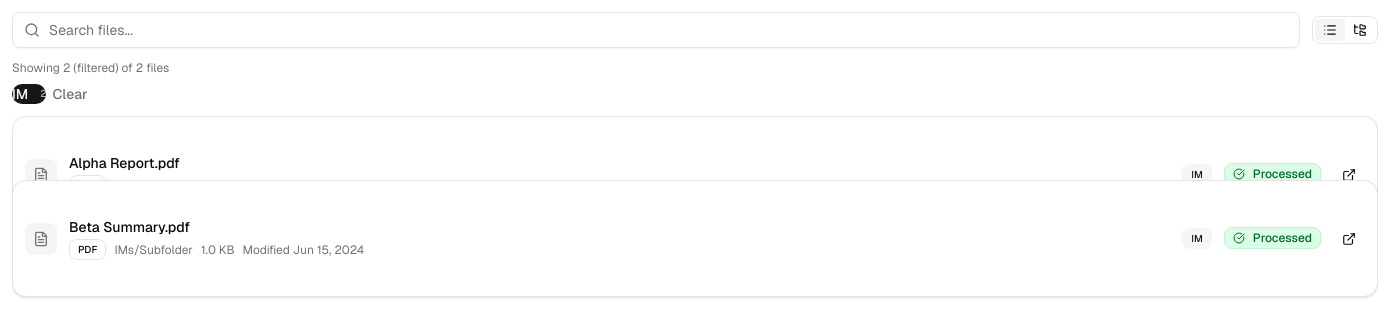
it: VirtualFilesList › search › filters files by name when typing in the search input
Expected: the text "Alpha Report.pdf" is shown, [69,154,180,172]
Type "Alpha" into the field with placeholder "Search files...".
click(656, 30); type("Alpha")  # box [12,12,1300,48]
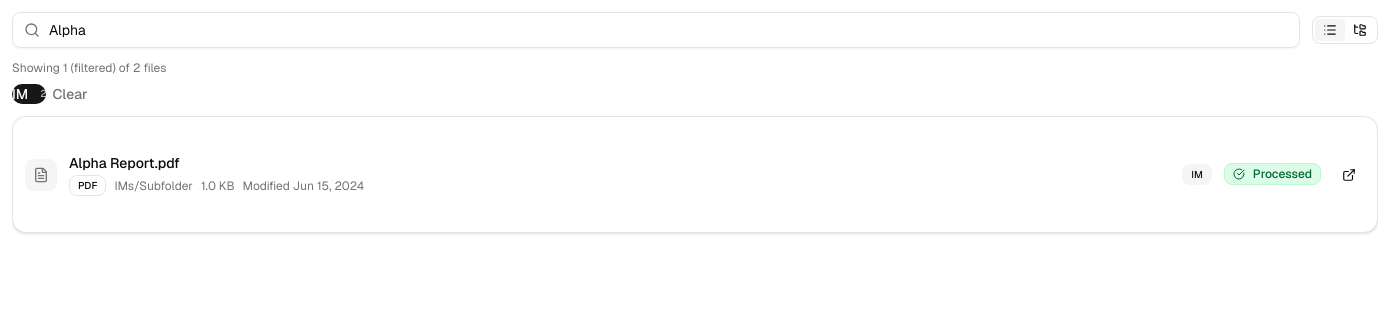
Expected: the text "Alpha Report.pdf" is shown, [69,154,180,172]
Expected: the text "Beta Summary.pdf" is gone
